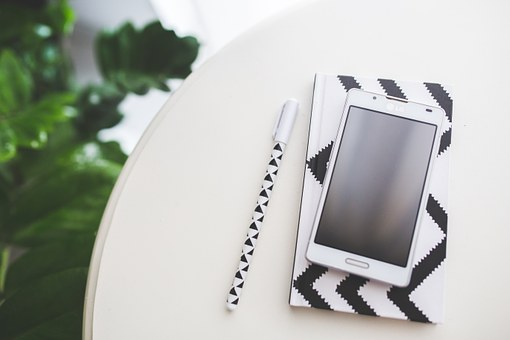mobile: (304, 74, 454, 301)
